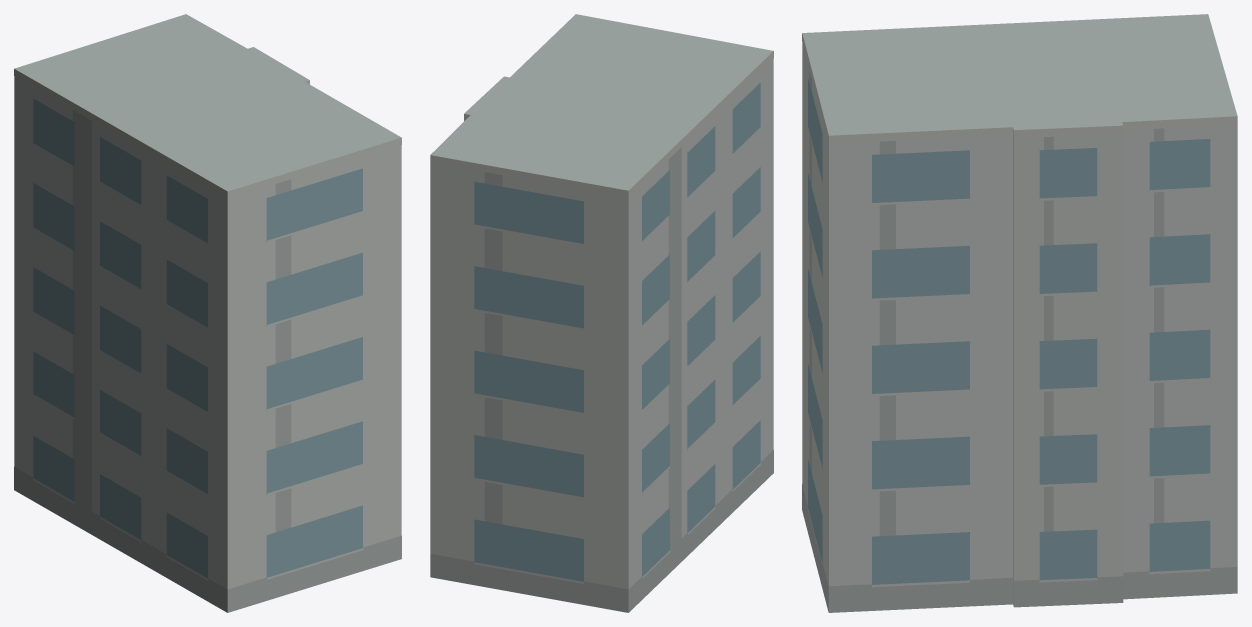
The model's file is survey-upis-32881736.glb.
3 views of the same model, side by side, from view 1: azimuth 30°, elevation 25°; view 2: azimuth 150°, elevation 25°; view 3: azimuth 270°, elevation 25° (orthographic). The views are drawn at different scales.
Parts seen in each view (by area): view 1: survey-upis-32881736.tmp; view 2: survey-upis-32881736.tmp; view 3: survey-upis-32881736.tmp.
Boxes of the visible parts, box(x1,y1,x2,y2) form: survey-upis-32881736.tmp: box(14, 14, 401, 612); survey-upis-32881736.tmp: box(430, 14, 773, 612); survey-upis-32881736.tmp: box(802, 14, 1237, 612).
Size of the model in its own units: 7.72 by 14.1 by 11.67.
